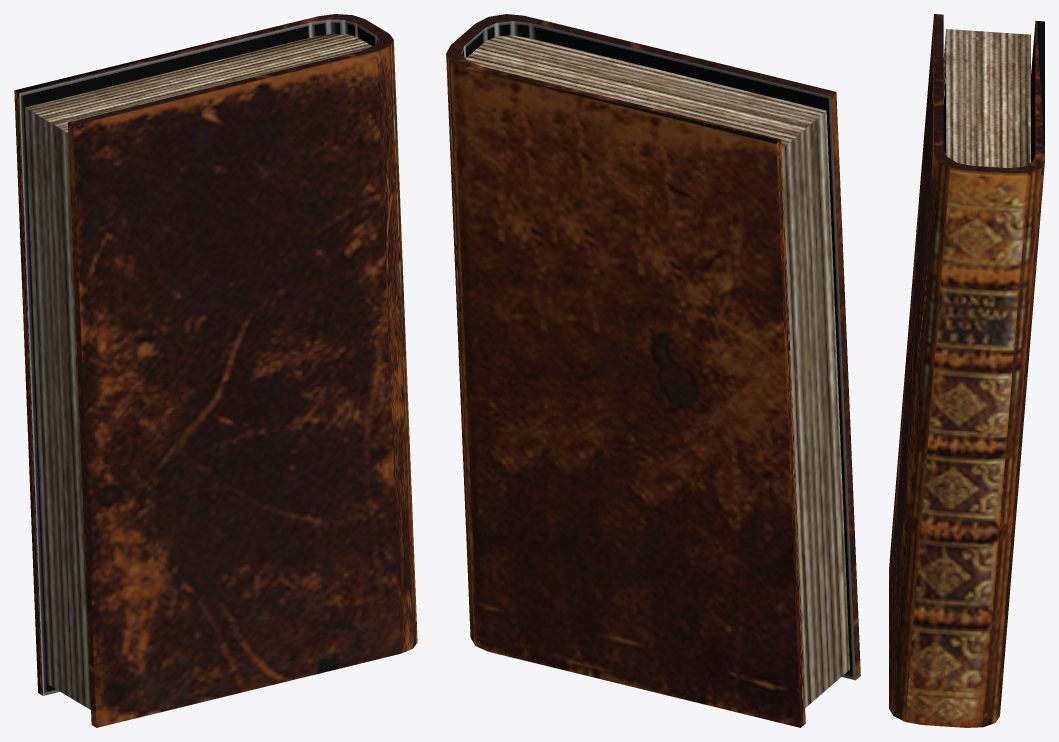
File: brown_book.fbx
The picture shows the model from 3 angles, left to right: view 1: azimuth 30°, elevation 25°; view 2: azimuth 150°, elevation 25°; view 3: azimuth 270°, elevation 25°; orthographic projection. The views are drawn at different scales.
Parts seen in each view (by area): view 1: pCube17, pCube18; view 2: pCube17, pCube18; view 3: pCube17, pCube18.
Boxes of the visible parts, x1,y1,x2,y2 form: pCube17: [14, 14, 417, 727]; pCube18: [25, 34, 372, 709]; pCube17: [446, 14, 860, 727]; pCube18: [466, 35, 849, 707]; pCube17: [889, 14, 1044, 727]; pCube18: [943, 29, 1030, 167].
Size of the model in its own units: 0.6023 by 1.02 by 0.2572.
Materials: 2 (2 with a texture image).
